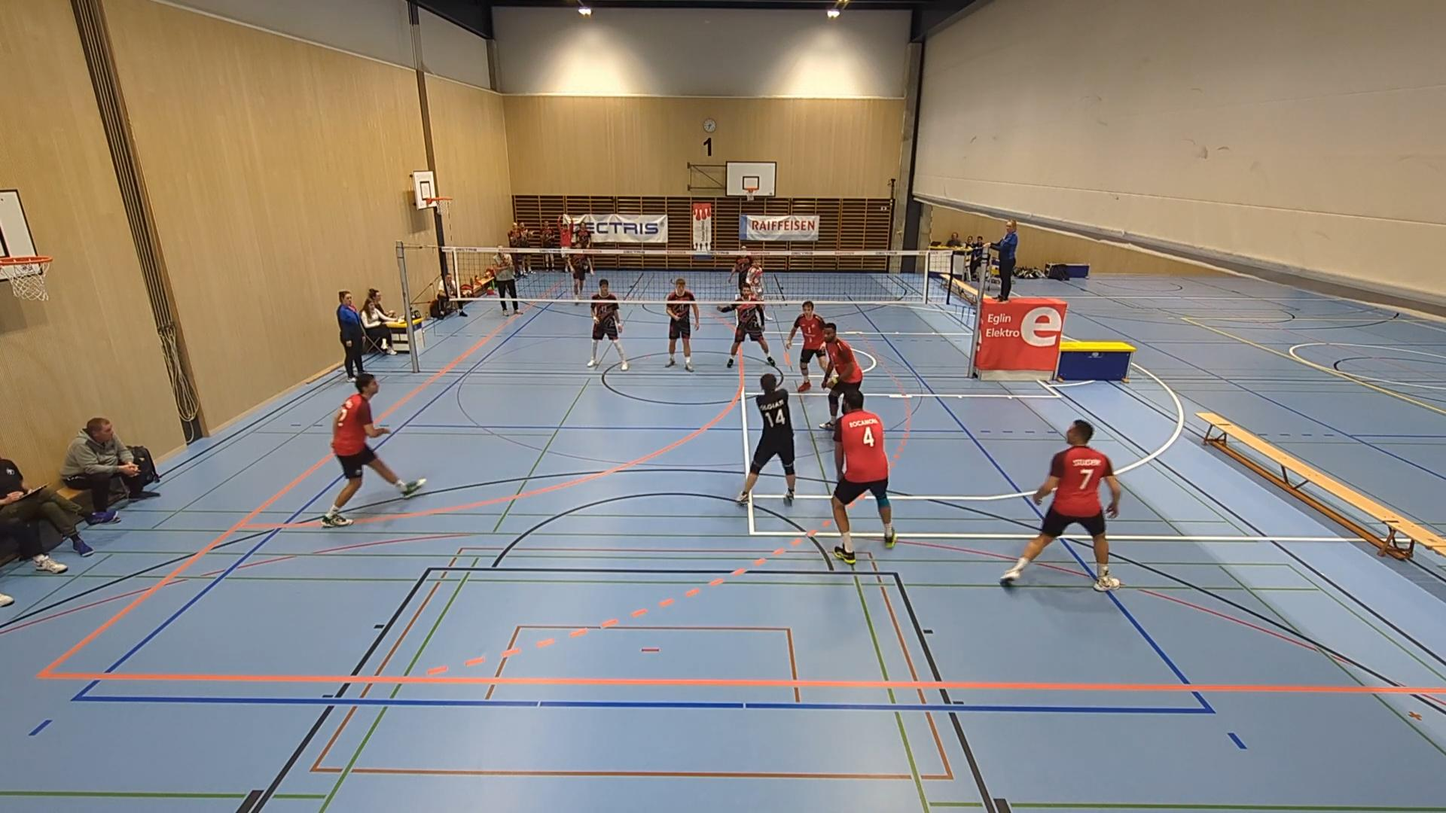ricezione: (740, 368, 798, 504)
